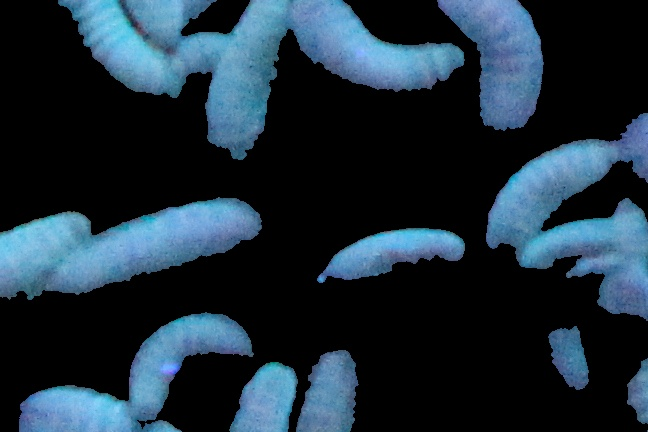larvae: (52, 193, 266, 307), (291, 1, 461, 87), (483, 141, 601, 258), (46, 1, 186, 95), (208, 1, 292, 156), (138, 309, 261, 409), (455, 1, 547, 133), (312, 229, 469, 287), (1, 206, 89, 303), (517, 220, 648, 270), (302, 349, 372, 432), (20, 382, 133, 432), (229, 360, 301, 432)
